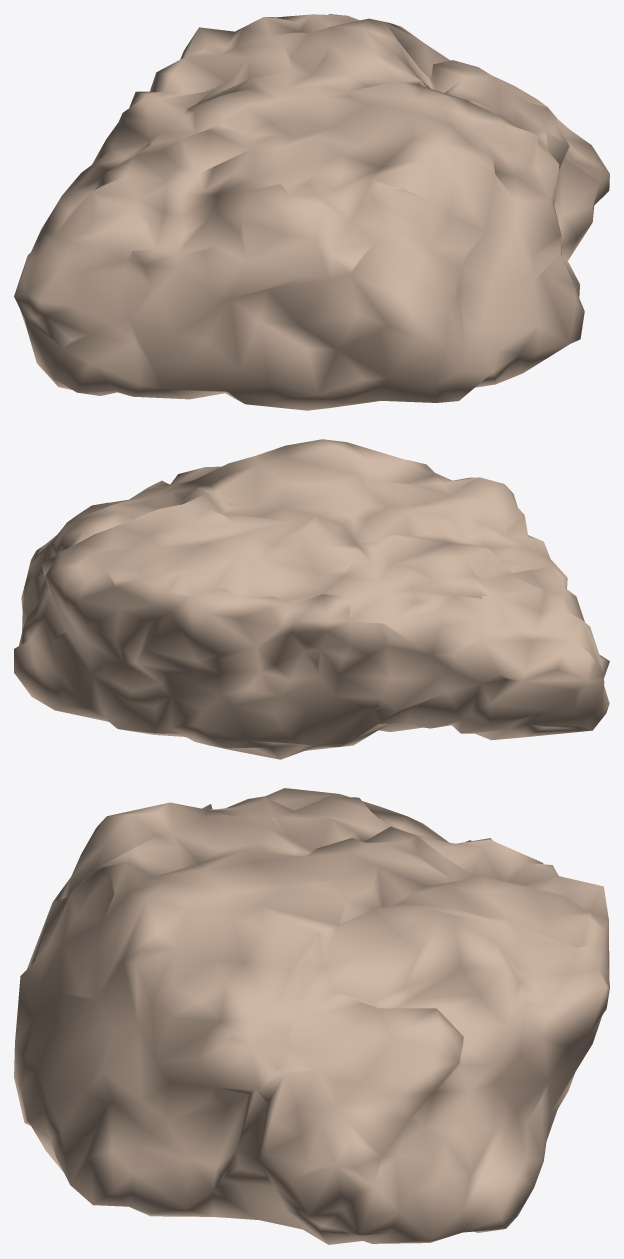
Rendered from rk_scree_1.glb.
3 renders of one model, top to bottom at view 1: azimuth 30°, elevation 25°; view 2: azimuth 150°, elevation 25°; view 3: azimuth 270°, elevation 25°, orthographic. The views are drawn at different scales.
Visible parts, largest first — view 1: namaqualand_rocks_02_a; view 2: namaqualand_rocks_02_a; view 3: namaqualand_rocks_02_a.
Part boxes in pixels (box(x1,y1,x2,y2)): namaqualand_rocks_02_a: box(14, 14, 609, 410); namaqualand_rocks_02_a: box(14, 439, 609, 759); namaqualand_rocks_02_a: box(14, 788, 609, 1244).
Size of the model in its own units: 1 by 0.3764 by 0.7398.
